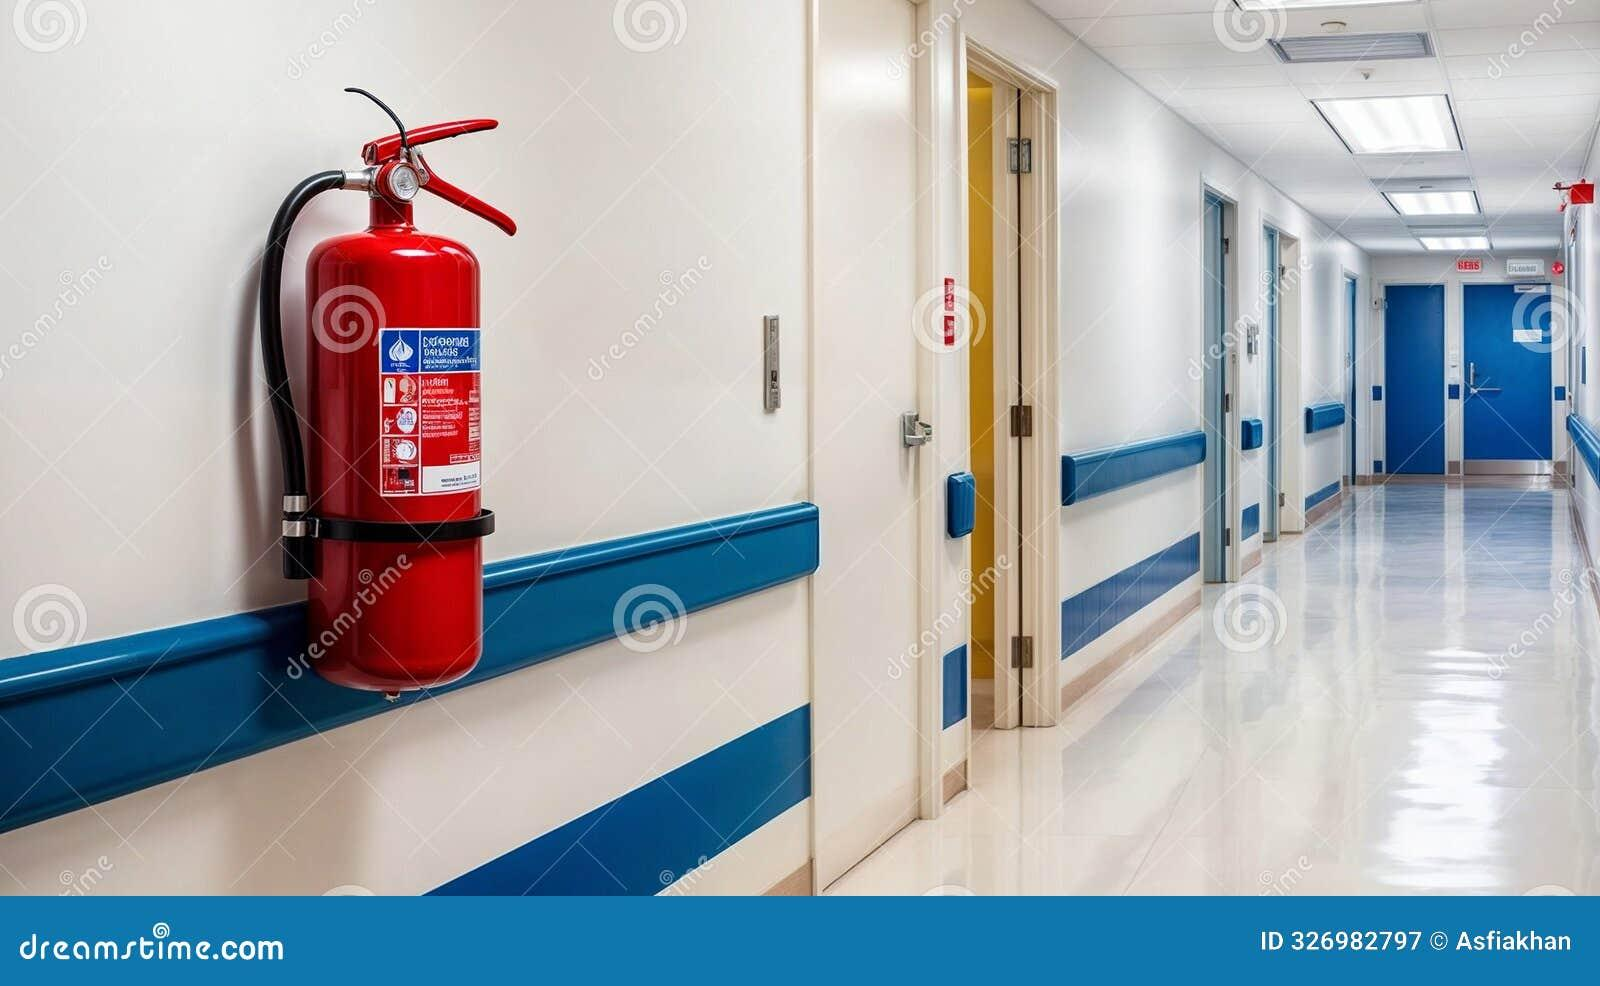wall-mounted: (225, 95, 527, 730)
